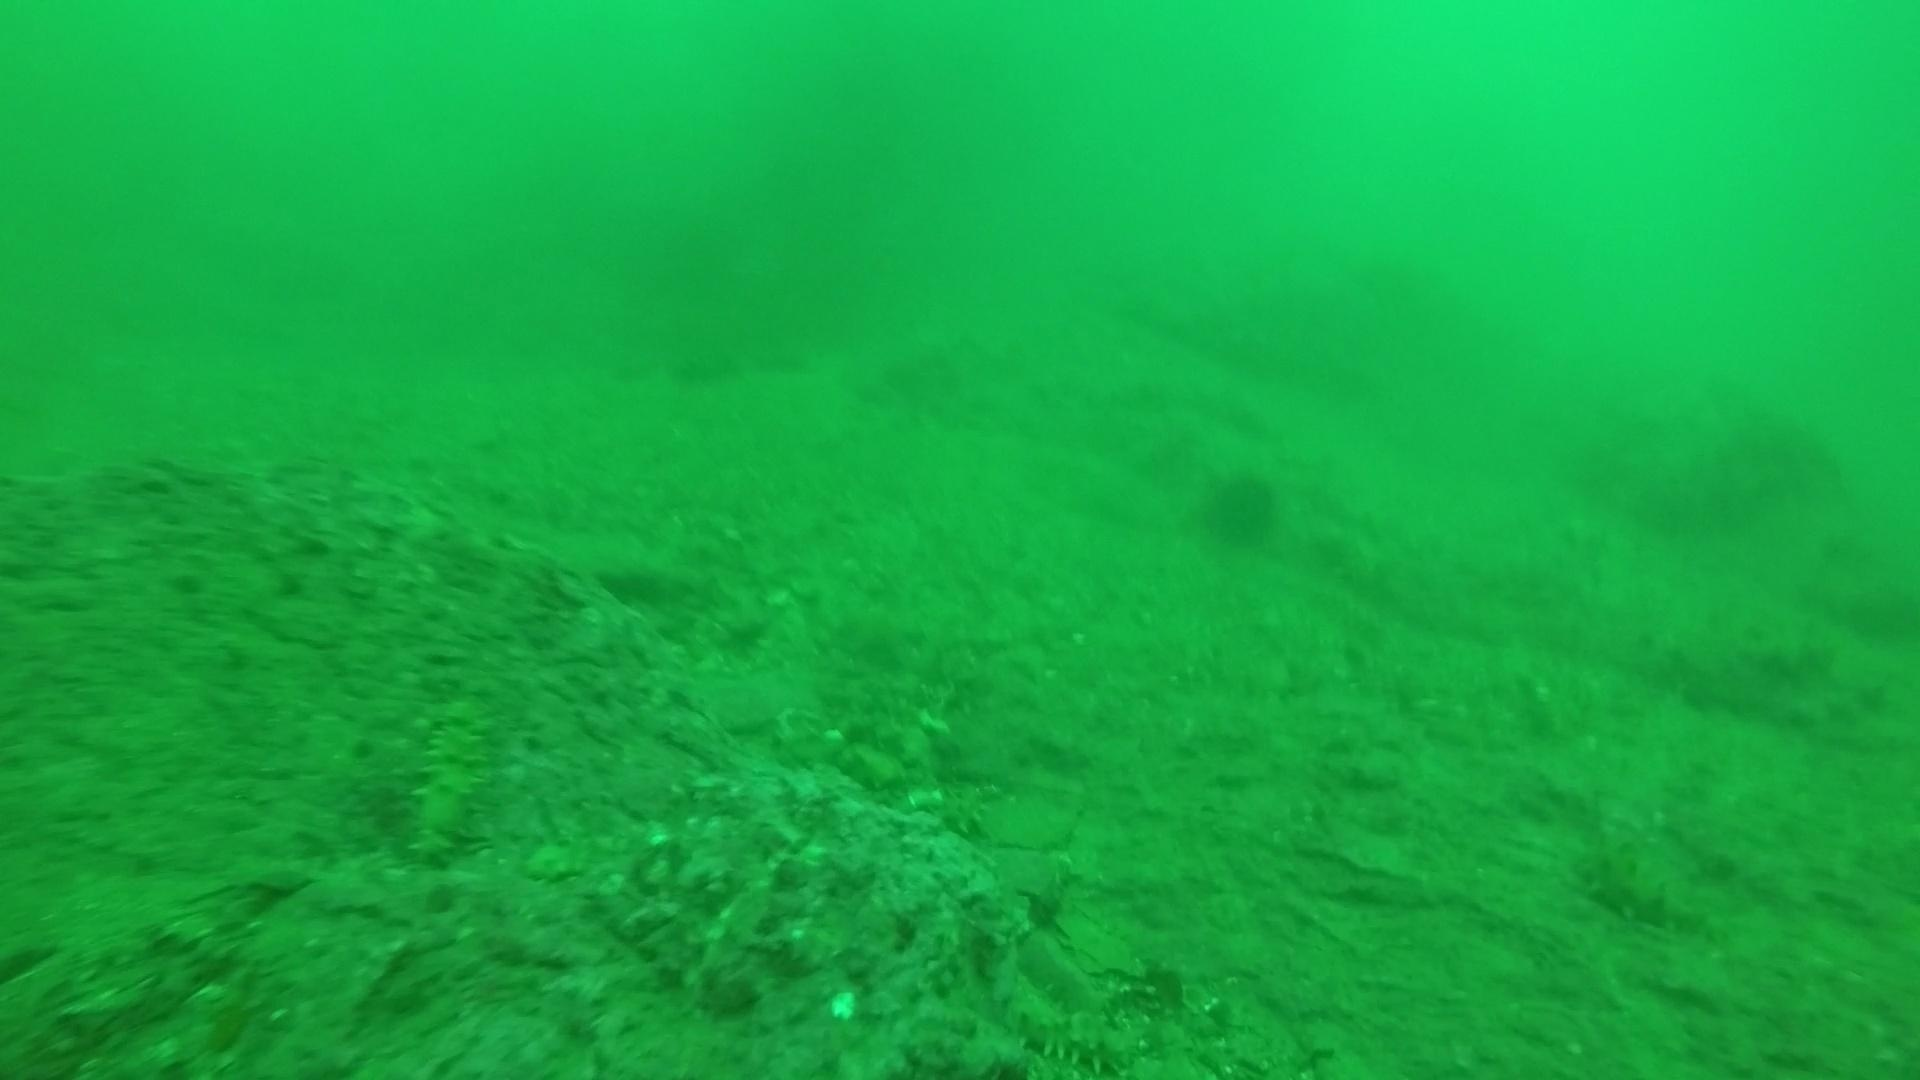echinus: (1195, 462, 1284, 550)
holothurian: (982, 947, 1145, 1075), (400, 690, 501, 864), (1572, 843, 1702, 936), (920, 761, 1000, 849)
